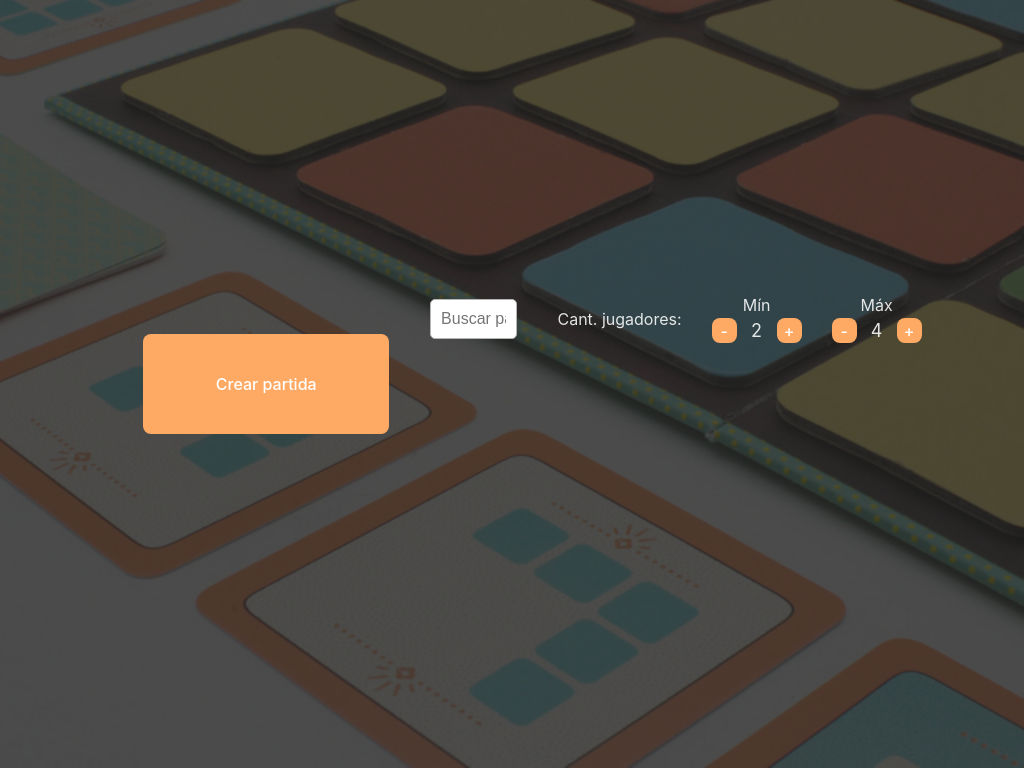
Test: Integration Test › click abrir form de crear partida
The width and height of the screenshot is (1024, 768).
Click the button "Crear partida". click: (266, 384)
box: [143,334,389,434]
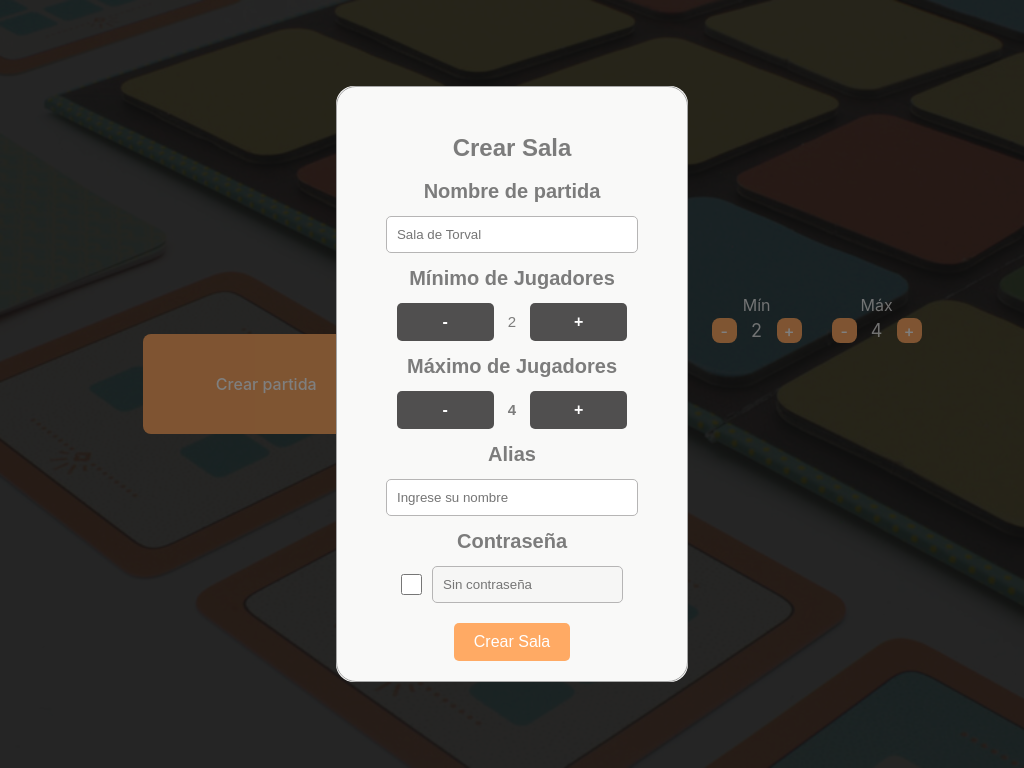
Now the heading "Nombre de partida" is shown, box [424,180,600,202]
